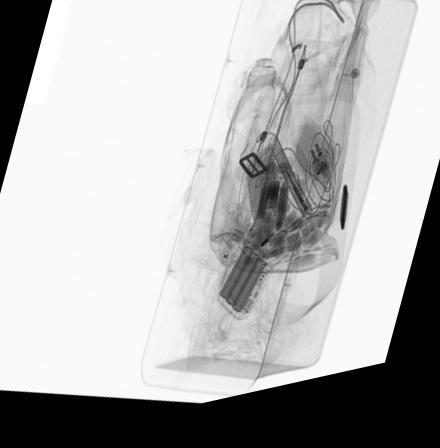Powerbank: (214, 254, 272, 333)
